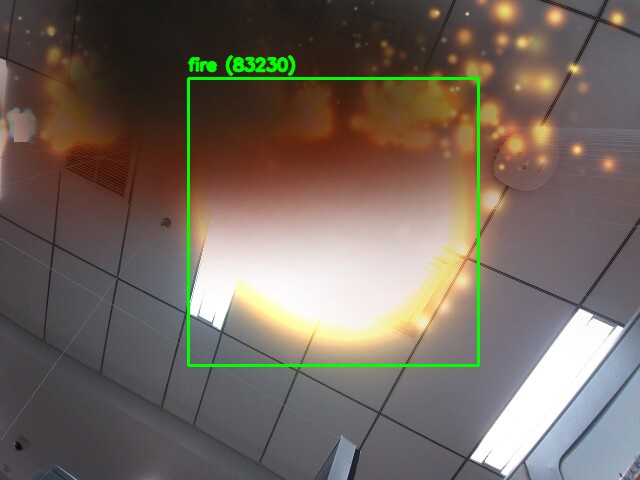fire: (188, 78, 478, 365)
